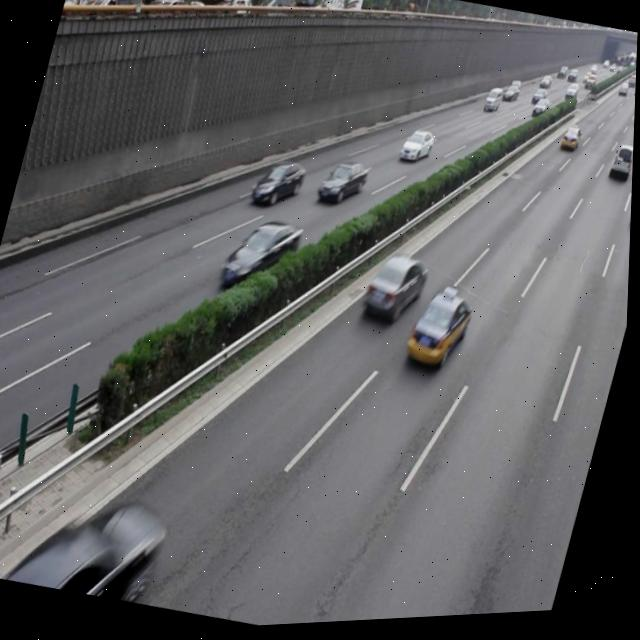car: (218, 212, 306, 302), (402, 286, 478, 378), (359, 252, 432, 330), (250, 155, 310, 216), (314, 157, 372, 213), (398, 130, 436, 170)
